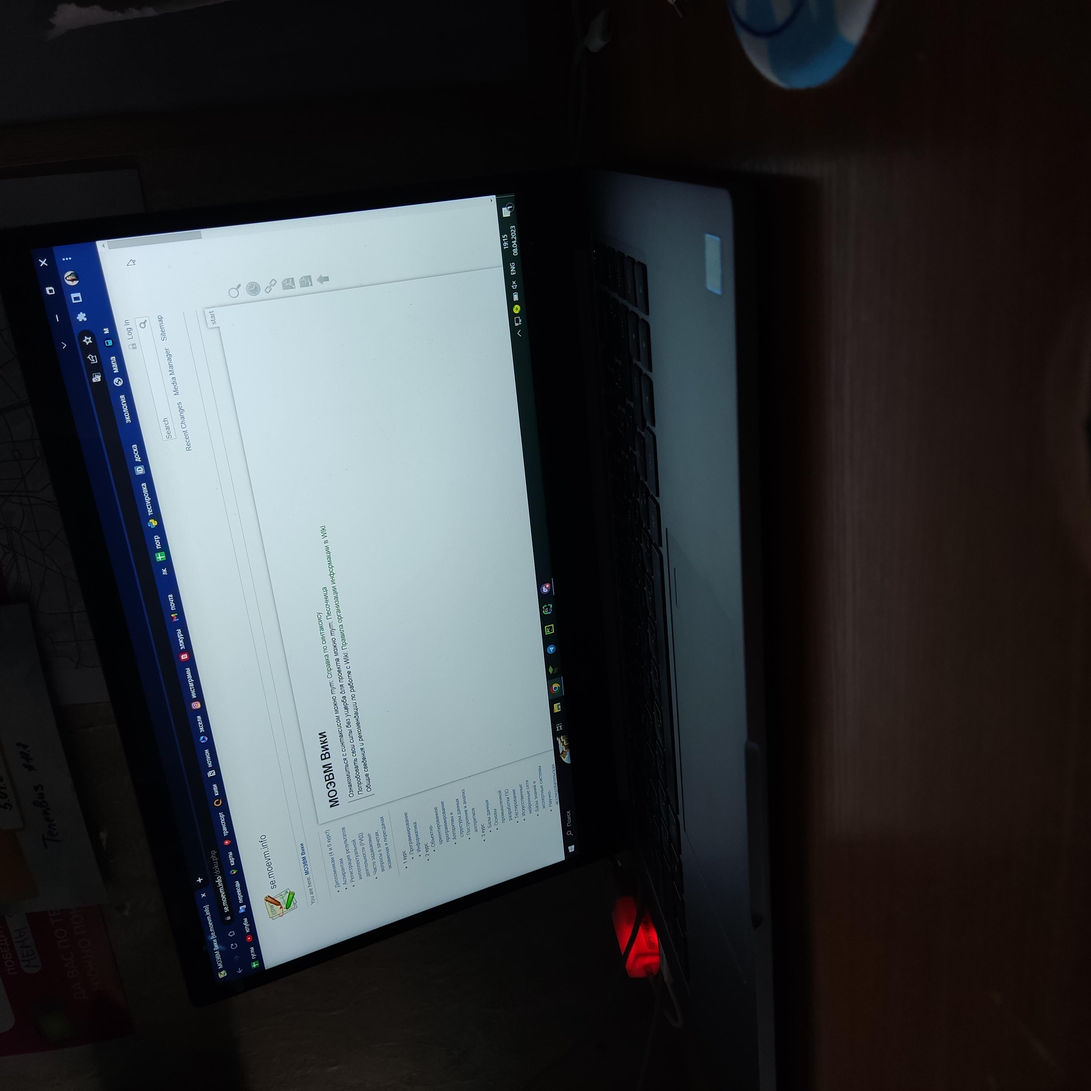monitor: (81, 0, 917, 628)
